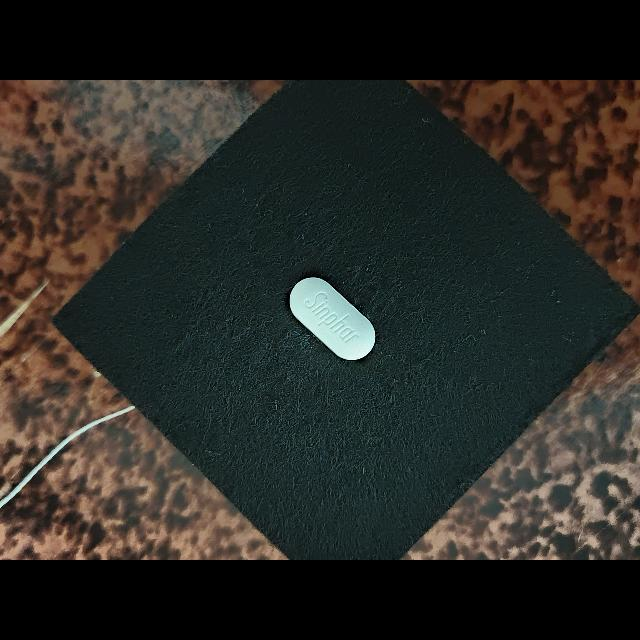Intact Pill: (290, 277, 375, 360)
